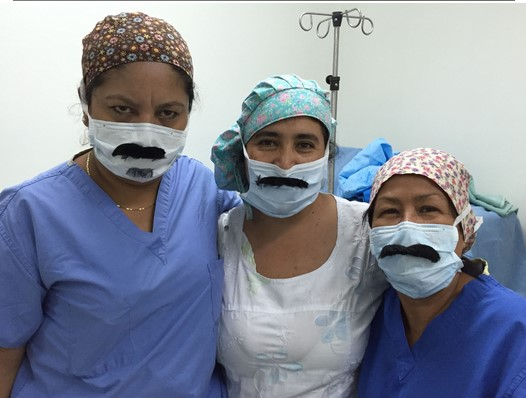face_with_mask: (73, 8, 196, 184), (362, 145, 476, 300), (230, 71, 333, 221)
